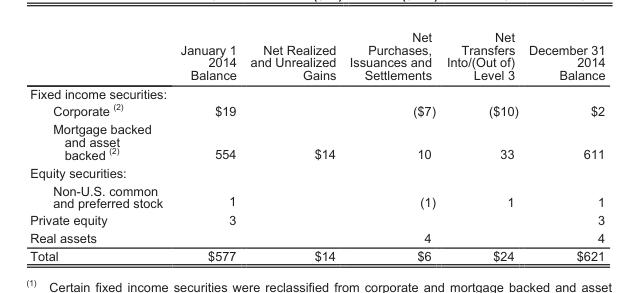table: (29, 29, 604, 262)
table column: (29, 29, 170, 262), (242, 29, 342, 262), (342, 29, 440, 262), (440, 29, 522, 262), (522, 29, 604, 262), (170, 29, 242, 262)
table column header: (29, 29, 604, 83)
table projected row header: (29, 83, 604, 101), (29, 163, 604, 181)
table row: (29, 29, 604, 83), (29, 119, 604, 163), (29, 181, 604, 211), (29, 83, 604, 101), (29, 101, 604, 119), (29, 163, 604, 181), (29, 228, 604, 246), (29, 211, 604, 228), (29, 246, 604, 262)
